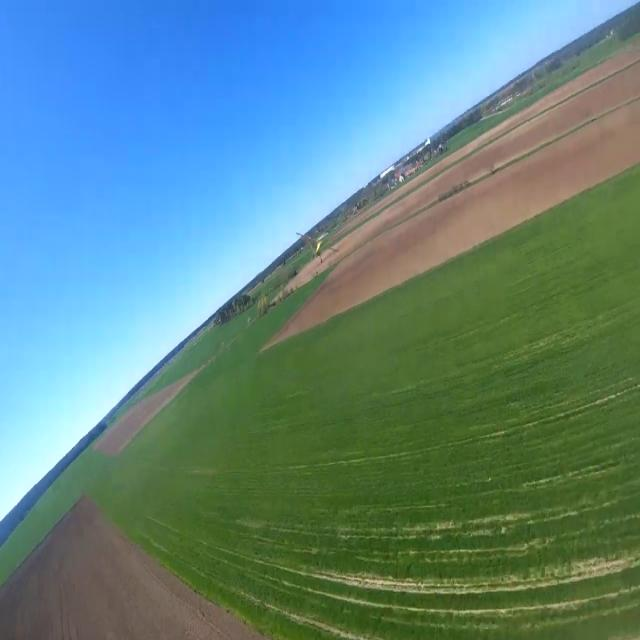iha: (298, 234, 338, 268)
